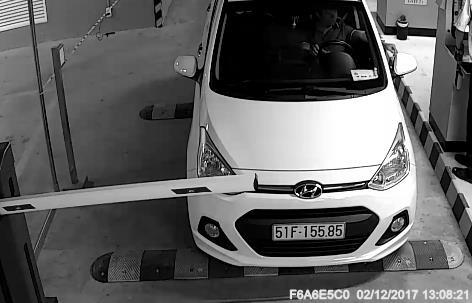License-plate: (268, 216, 352, 248)
